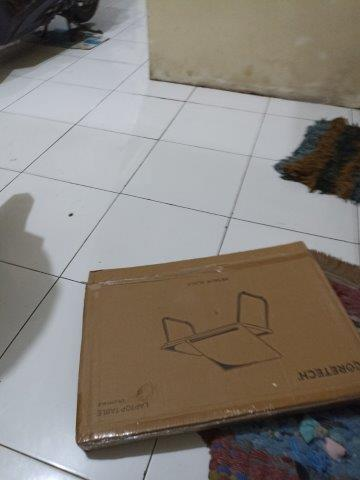kardus: (79, 244, 360, 447)
